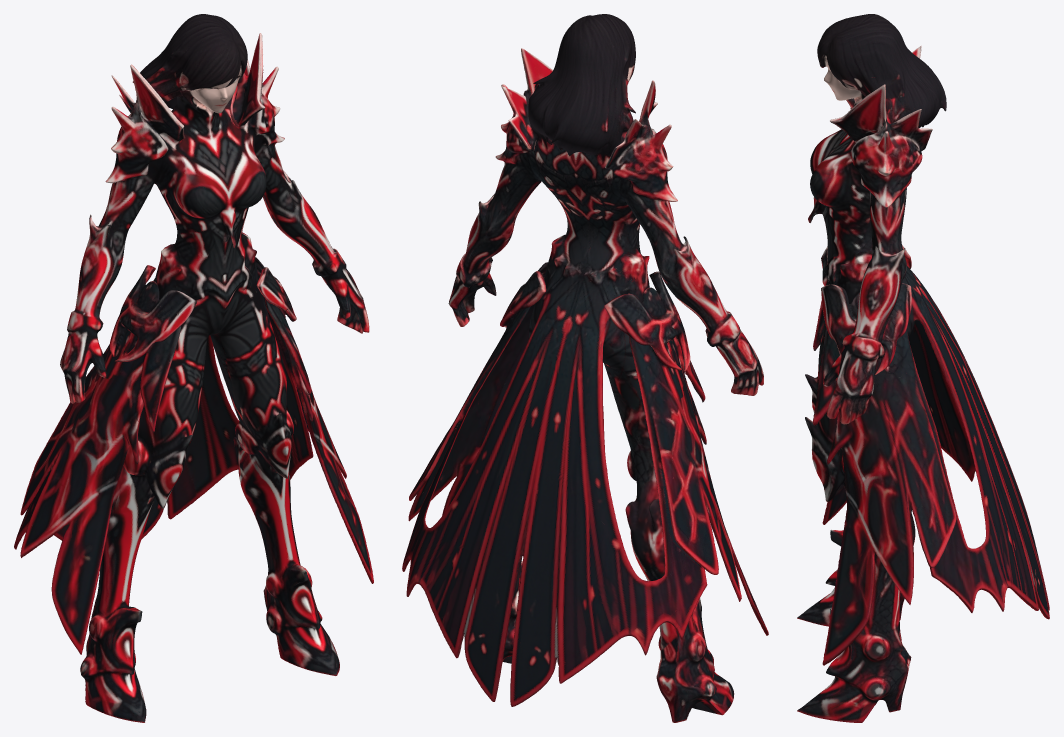
File: lyra_n3.glb
3 renders of one model, left to right at view 1: azimuth 30°, elevation 25°; view 2: azimuth 150°, elevation 25°; view 3: azimuth 270°, elevation 25°, orthographic. The views are drawn at different scales.
Size of the model in its own units: 0.9882 by 1.9 by 0.6701.
Materials: 1 (1 with a texture image).
